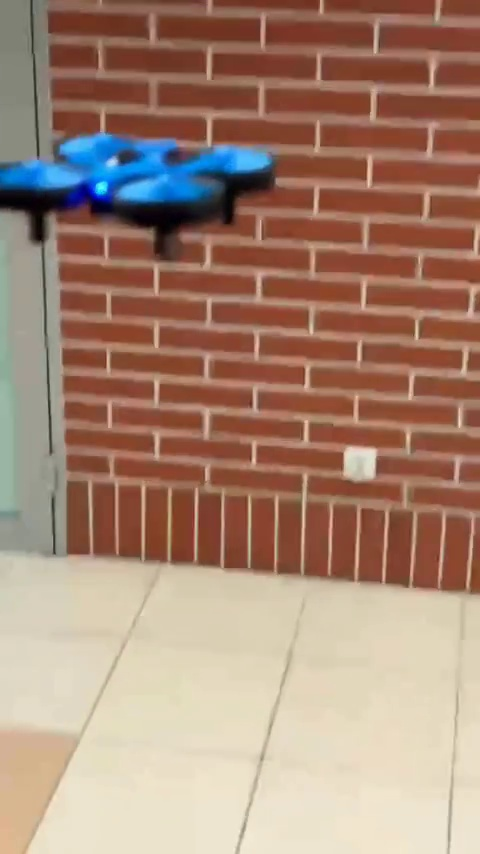drone: (0, 130, 282, 256)
